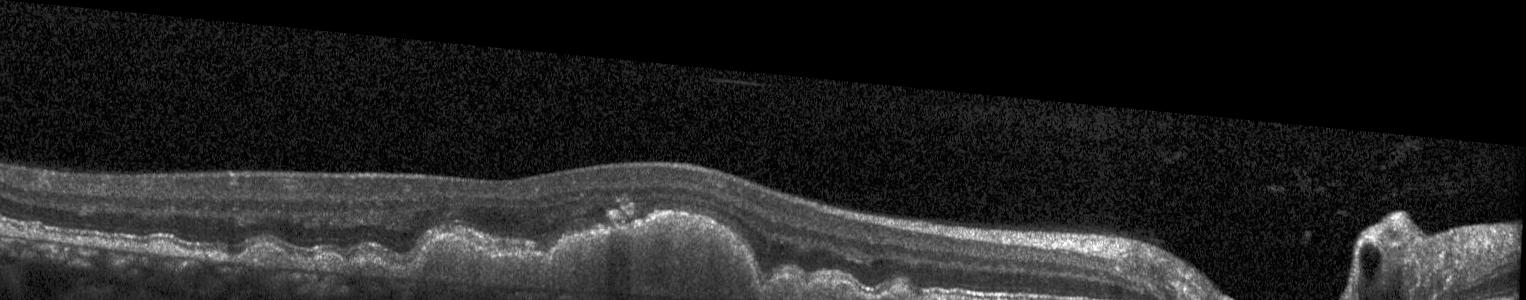retinal_drusen: (552, 201, 761, 286), (421, 229, 547, 275), (809, 265, 865, 285), (769, 256, 808, 283), (241, 241, 288, 261), (877, 272, 925, 287), (349, 251, 390, 268), (315, 247, 346, 266), (148, 238, 182, 252), (25, 225, 47, 240), (201, 246, 225, 256)
